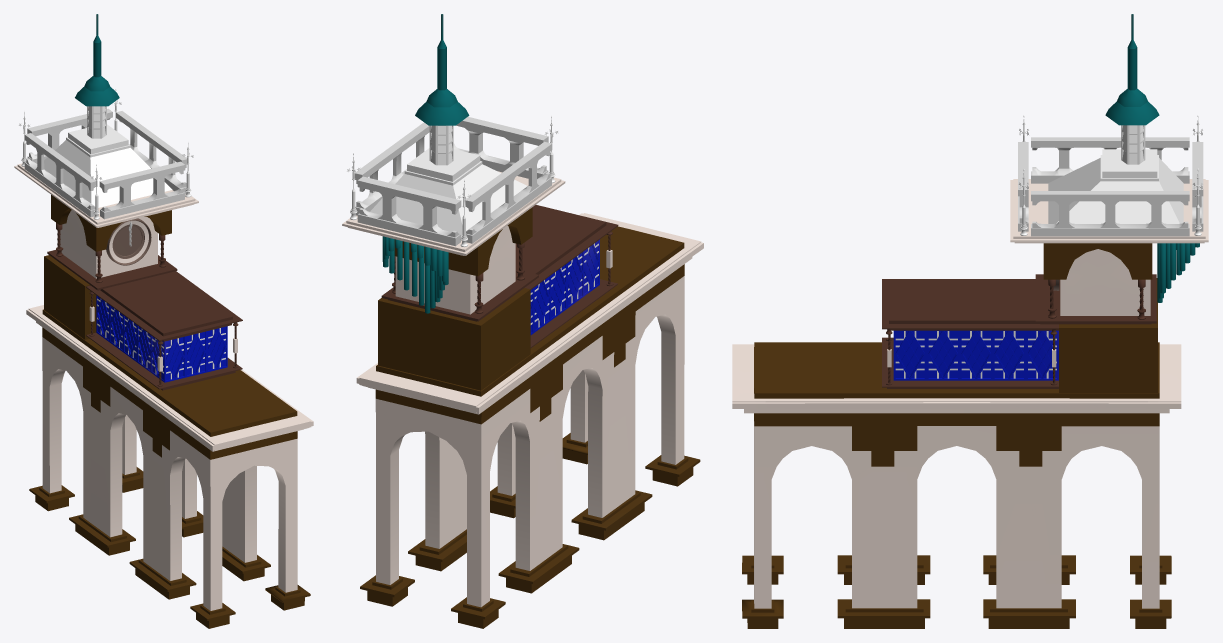
Rendered from clockTower.fbx.
3 views of the same model, side by side, from view 1: azimuth 30°, elevation 25°; view 2: azimuth 150°, elevation 25°; view 3: azimuth 270°, elevation 25° (orthographic). The views are drawn at different scales.
Visible parts, largest first — view 1: ClockTower, ClockTower_Box.001, ClockTower_Fence.003, ClockTower_Fence.004, ClockTower_Fence.002, ClockTower_Top, ClockTower_Fence.001, ClockTower_Box.003, ClockTower_Cylinder; view 2: ClockTower, ClockTower_Box.001, ClockTower_Fence.001, ClockTower_Fence.004, ClockTower_Fence.003, ClockTower_Top, ClockTower_Fence.002, ClockTower_Box.003, ClockTower_Cylinder; view 3: ClockTower, ClockTower_Fence.002, ClockTower_Box.001, ClockTower_Fence.004, ClockTower_Top, ClockTower_Box.003, ClockTower_Cylinder, ClockTower_Fence.001, ClockTower_Fence.003.
Part boxes in pixels (x1,y1,x2,y2): ClockTower: (14, 163, 313, 628); ClockTower_Box.001: (44, 140, 172, 207); ClockTower_Fence.003: (99, 161, 185, 219); ClockTower_Fence.004: (24, 133, 95, 217); ClockTower_Fence.002: (115, 111, 187, 194); ClockTower_Top: (75, 14, 119, 106); ClockTower_Fence.001: (27, 108, 112, 163); ClockTower_Box.003: (68, 124, 128, 154); ClockTower_Cylinder: (87, 106, 106, 138); ClockTower: (342, 171, 703, 628); ClockTower_Box.001: (370, 164, 527, 236); ClockTower_Fence.001: (357, 176, 461, 246); ClockTower_Fence.004: (465, 141, 552, 243); ClockTower_Fence.003: (453, 117, 548, 178); ClockTower_Top: (415, 14, 469, 125); ClockTower_Fence.002: (354, 122, 429, 215); ClockTower_Box.003: (407, 148, 480, 181); ClockTower_Cylinder: (429, 125, 453, 165); ClockTower: (732, 179, 1208, 628); ClockTower_Fence.002: (1031, 191, 1189, 236); ClockTower_Box.001: (1048, 158, 1183, 223); ClockTower_Fence.004: (1031, 137, 1189, 183); ClockTower_Top: (1105, 14, 1159, 125); ClockTower_Box.003: (1102, 149, 1157, 177); ClockTower_Cylinder: (1121, 125, 1145, 164); ClockTower_Fence.001: (1192, 142, 1203, 231); ClockTower_Fence.003: (1018, 142, 1028, 231).
Size of the model in its own units: 3.5 by 15.73 by 11.59.
